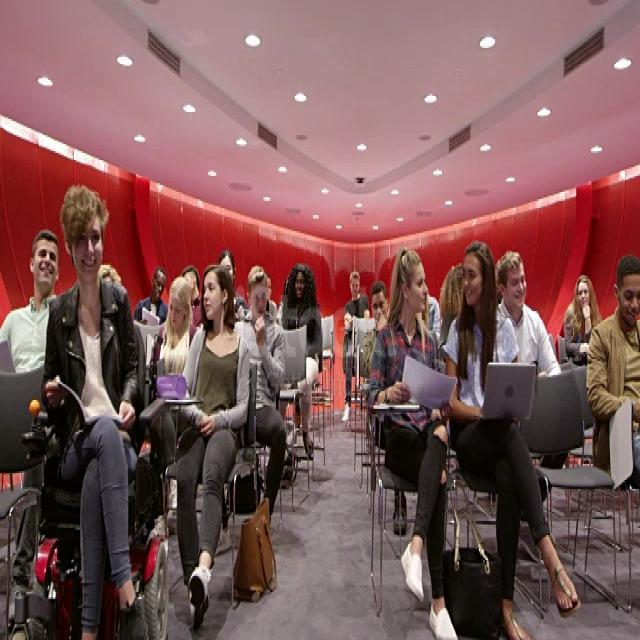Looking away: (461, 252, 483, 306), (620, 274, 640, 328), (408, 264, 428, 316), (506, 263, 527, 311), (202, 271, 222, 320), (168, 292, 186, 330), (372, 290, 388, 326), (152, 268, 166, 302)
Looking forward: (74, 217, 102, 278), (34, 239, 58, 287), (250, 282, 268, 324), (578, 283, 592, 310), (295, 270, 305, 300), (350, 274, 360, 298)
